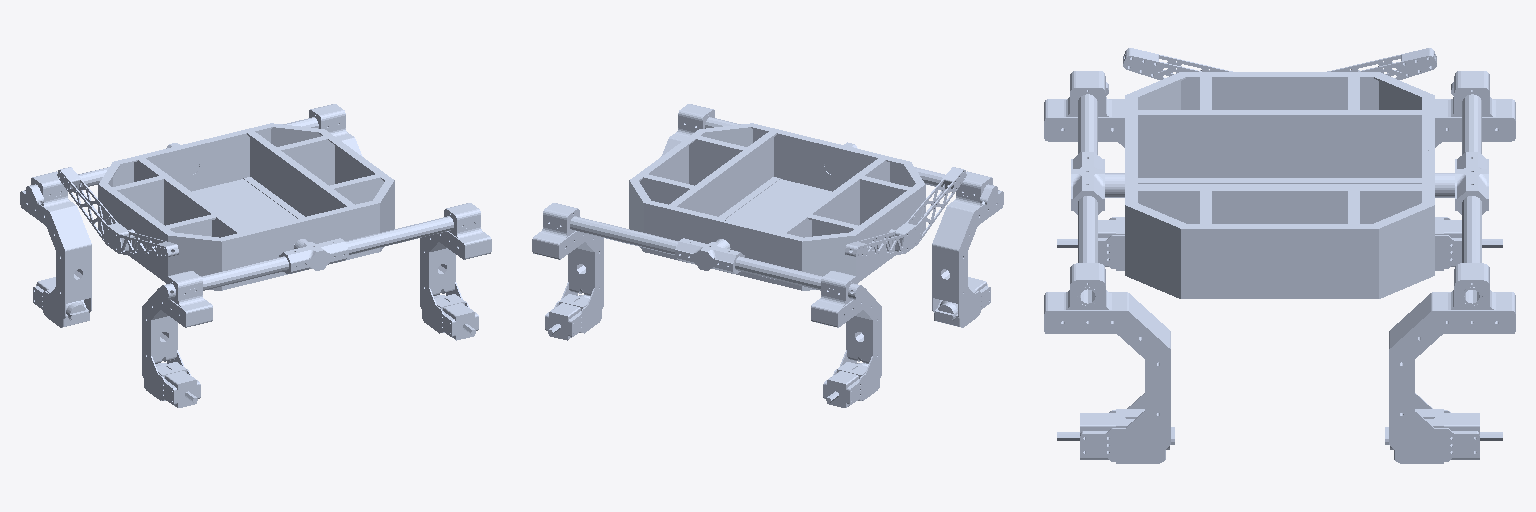
robot.urdf — Chasis:
<?xml version="1.0" encoding="utf-8"?>
<!-- This URDF was automatically created by SolidWorks to URDF Exporter! Originally created by Stephen Brawner (brawner@gmail.com) 
     Commit Version: 1.6.0-4-g7f85cfe  Build Version: 1.6.7995.38578
     For more information, please see http://wiki.ros.org/sw_urdf_exporter -->
<robot
  name="Chasis">
  <link
    name="Chasis">
    <inertial>
      <origin
        xyz="0.00287143193569343 -4.813753470066E-05 -0.0263492882039757"
        rpy="0 0 0" />
      <mass
        value="40" />
      <inertia
        ixx="0.146289539269788"
        ixy="3.02994365528667E-07"
        ixz="-1.07213467744308E-05"
        iyy="0.183011006714277"
        iyz="1.00631494503253E-06"
        izz="0.266509383427871" />
    </inertial>
    <visual>
      <origin
        xyz="-0.396 -0.38 0.114"
        rpy="1.5708 0 1.5708" />
      <geometry>
        <mesh
          filename="package://mi_rover_description/meshes/Chasis/Chasis.STL" scale="0.001 0.001 0.001" />
      </geometry>
      <material
        name="gris">
        <color
          rgba="0.866666666666667 0.909803921568627 1 1" />
      </material>
    </visual>
    <collision>
      <origin
         xyz="-0.395 -0.38 0.114"
        rpy="1.5708 0 1.5708" />
      <geometry>
        <mesh
          filename="package://mi_rover_description/meshes/Chasis/Chasis.STL" scale="0.001 0.001 0.001" />
      </geometry>
    </collision>
  </link>
</robot>

--- Facts derived from the render (not from the file) ---
3 views of the same robot in one strip: view 1: azimuth 30°, elevation 25°; view 2: azimuth 150°, elevation 25°; view 3: azimuth 270°, elevation 25° (orthographic).
Model Chasis with 1 links and 0 joints (none), rooted at Chasis, posed every joint at zero.
Visible links, largest first — view 1: Chasis; view 2: Chasis; view 3: Chasis.
Link boxes in pixels (x1,y1,x2,y2): Chasis: [20, 104, 491, 407]; Chasis: [532, 104, 1003, 407]; Chasis: [1044, 48, 1515, 463].
Size in the robot's own frame: 0.8256 by 0.761 by 0.379 metres.
Meshes: 1 distinct files referenced, 1 mesh visuals loaded (1 binary STL).
